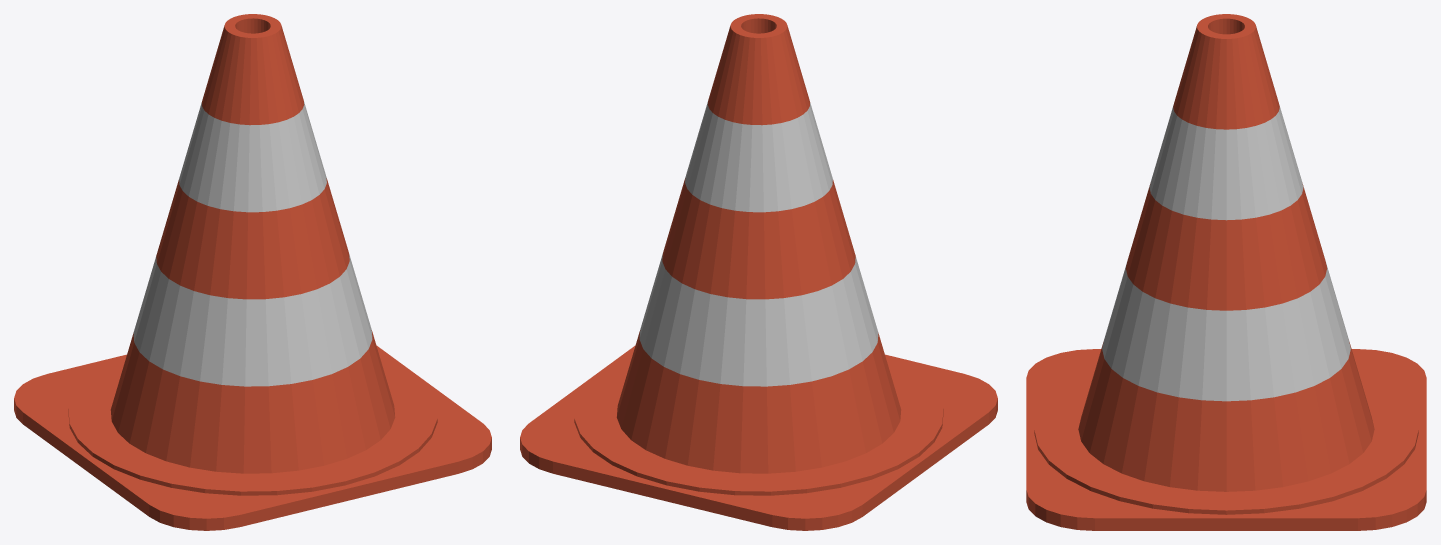
The model's file is TrafficCone.fbx.
The picture shows the model from 3 angles, left to right: view 1: azimuth 30°, elevation 25°; view 2: azimuth 150°, elevation 25°; view 3: azimuth 270°, elevation 25°; orthographic projection. The views are drawn at different scales.
Visible parts, largest first — view 1: Cone; view 2: Cone; view 3: Cone.
Part boxes in pixels (left/top/right/bottom): Cone: left=14, top=14, right=491, bottom=530; Cone: left=520, top=14, right=997, bottom=530; Cone: left=1026, top=14, right=1426, bottom=530.
Bounding box in the file's own units: 270 × 313 × 270.
